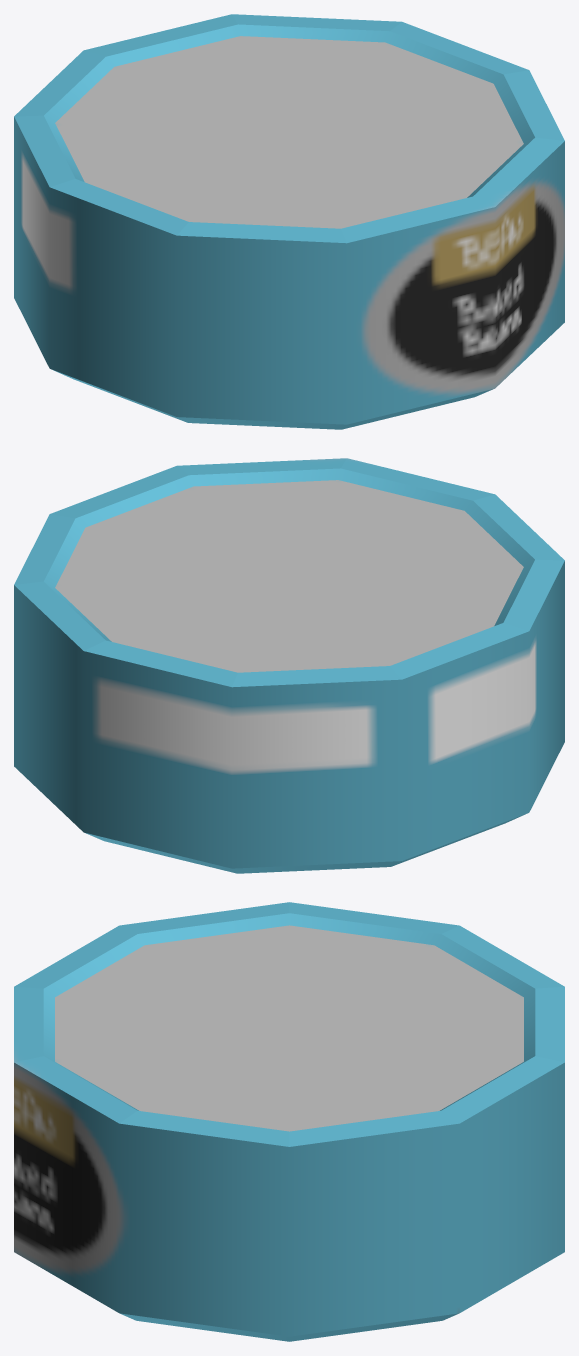
File: Canned_03.fbx
3 renders of one model, top to bottom at view 1: azimuth 30°, elevation 25°; view 2: azimuth 150°, elevation 25°; view 3: azimuth 270°, elevation 25°, orthographic. The views are drawn at different scales.
Parts seen in each view (by area): view 1: Canned_03; view 2: Canned_03; view 3: Canned_03.
Boxes of the visible parts, x1,y1,x2,y2 form: Canned_03: (14, 14, 564, 429); Canned_03: (14, 458, 564, 873); Canned_03: (14, 902, 564, 1341).
Size of the model in its own units: 12.72 by 5.07 by 12.1.
